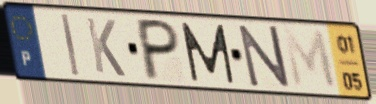I: (59, 12, 82, 79)
K: (83, 15, 128, 80)
M: (280, 27, 341, 92), (178, 20, 238, 85)
N: (235, 24, 293, 90)
P: (136, 16, 182, 83)
